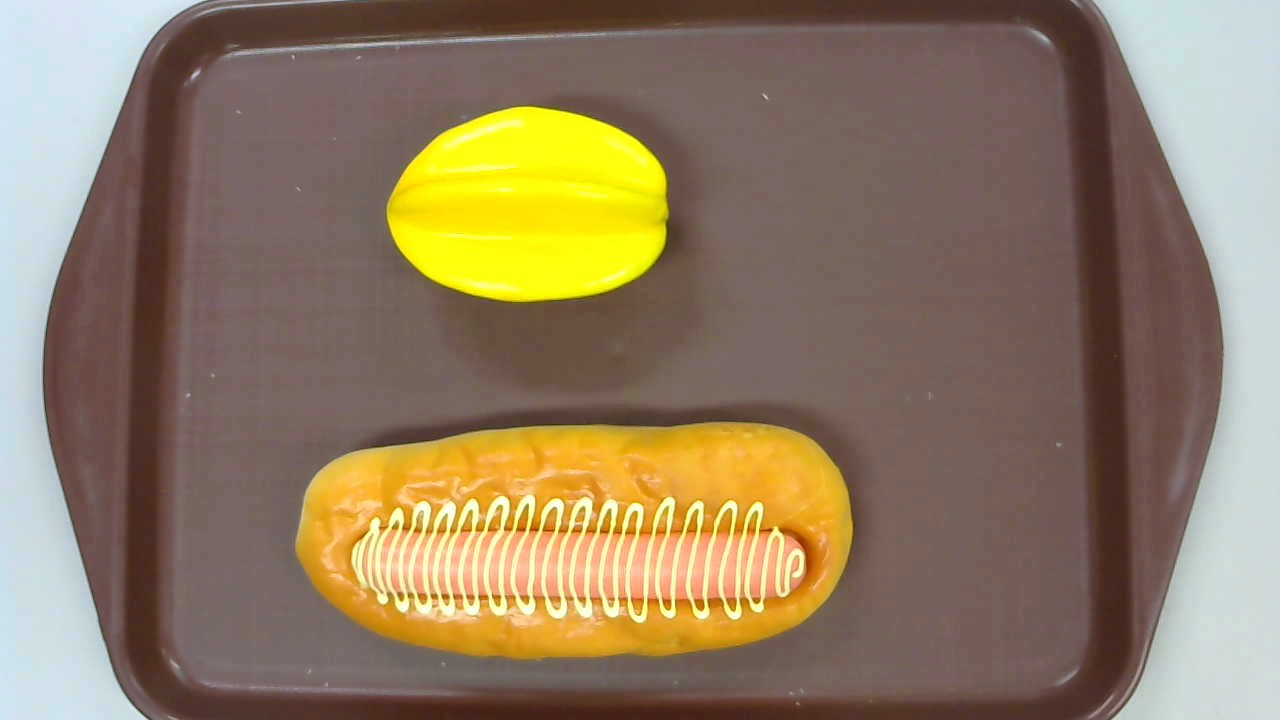hot dog: (293, 420, 854, 659)
star fruit: (385, 106, 671, 303)
